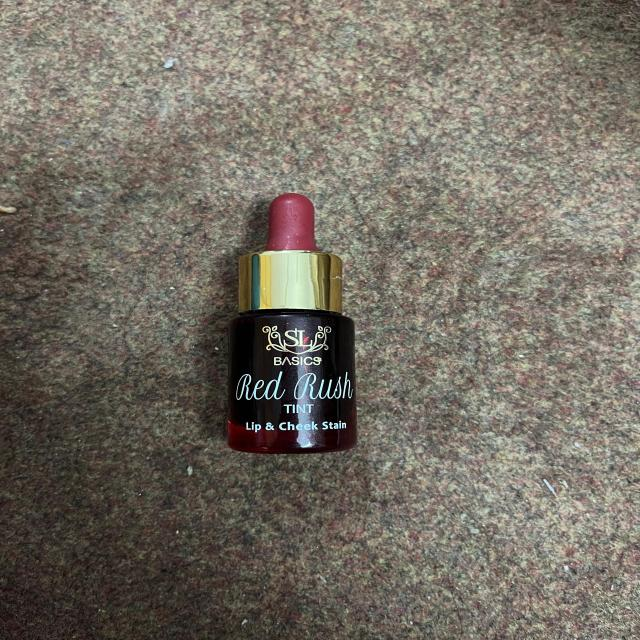serum: (197, 164, 391, 493)
